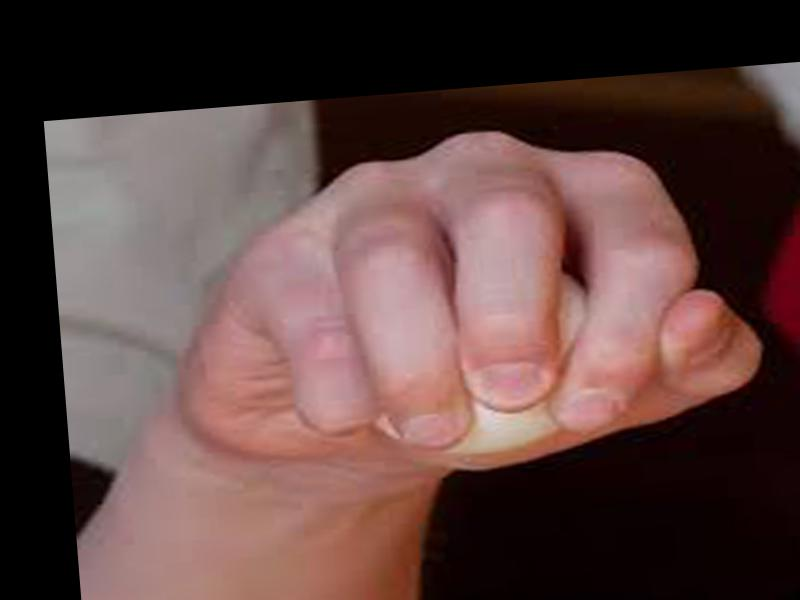Eggs: (363, 266, 625, 463)
